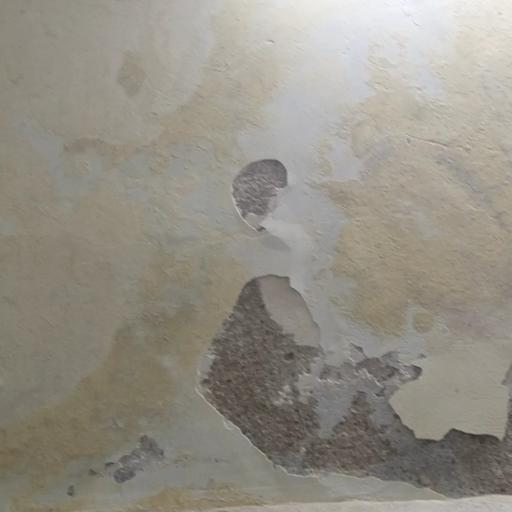peeling: (188, 267, 512, 507), (216, 144, 313, 246), (76, 426, 163, 500)
